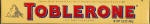grozi_68: (0, 0, 150, 24)
